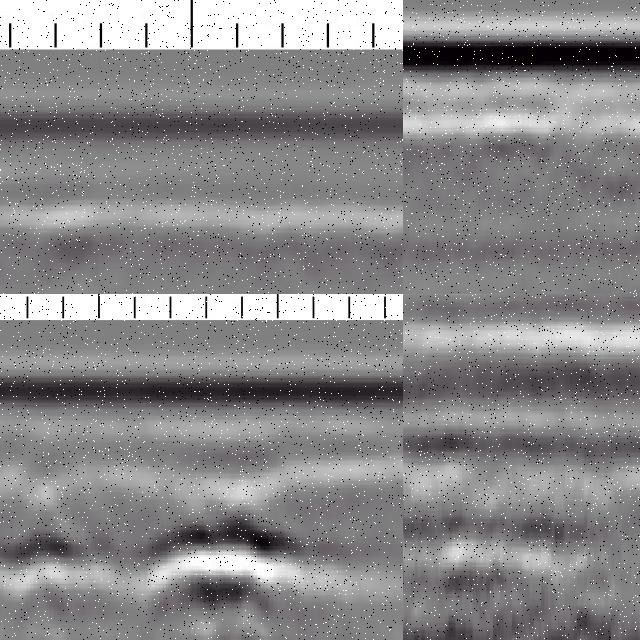crack: (404, 57, 418, 295)
loose: (1, 507, 315, 640)
